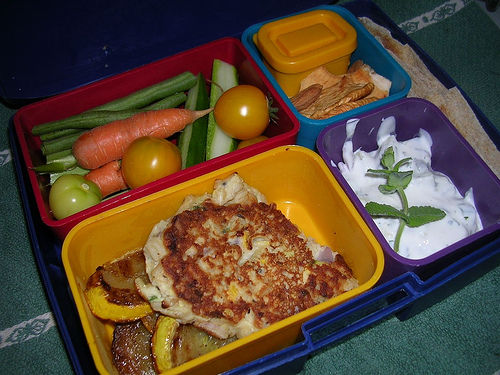cucumber: (204, 56, 237, 162)
